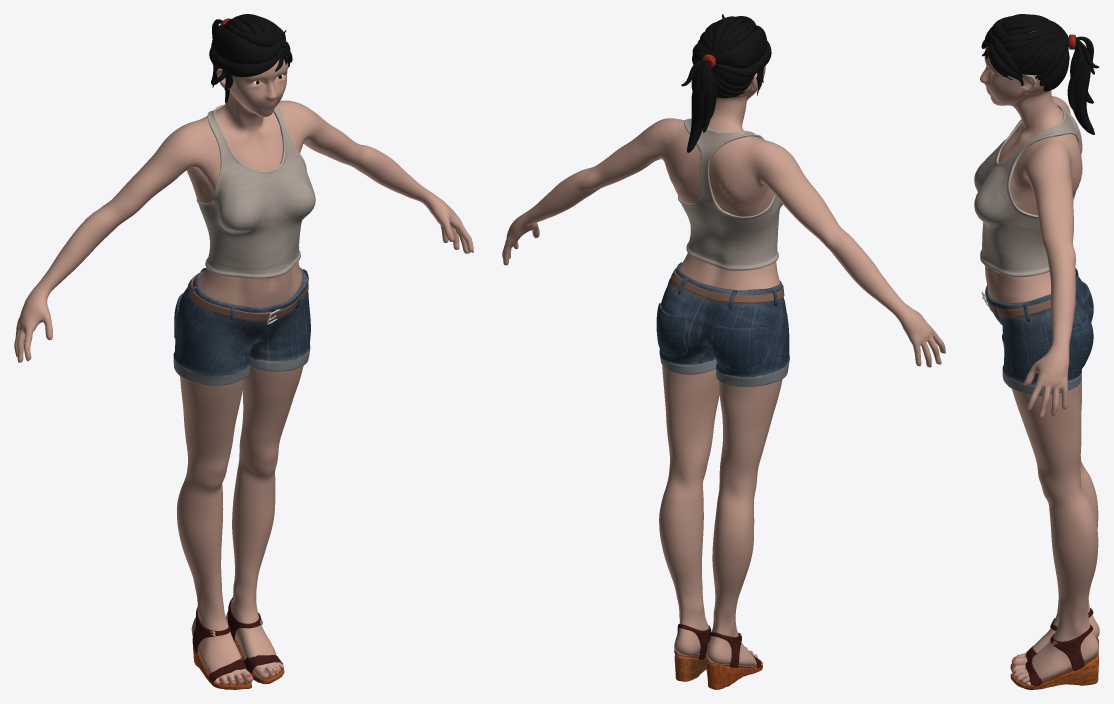
Rendered from girl_002.glb.
3 views of the same model, side by side, from view 1: azimuth 30°, elevation 25°; view 2: azimuth 150°, elevation 25°; view 3: azimuth 270°, elevation 25° (orthographic). The views are drawn at different scales.
Visible parts, largest first — view 1: cuerpo_1; view 2: cuerpo_1; view 3: cuerpo_1.
Part boxes in pixels (left/top/right/bottom): cuerpo_1: left=14, top=14, right=473, bottom=689; cuerpo_1: left=502, top=14, right=945, bottom=689; cuerpo_1: left=974, top=14, right=1099, bottom=689.
Bounding box in the file's own units: 1.15 × 1.62 × 0.2805.
Materials: 3 (3 with a texture image).
